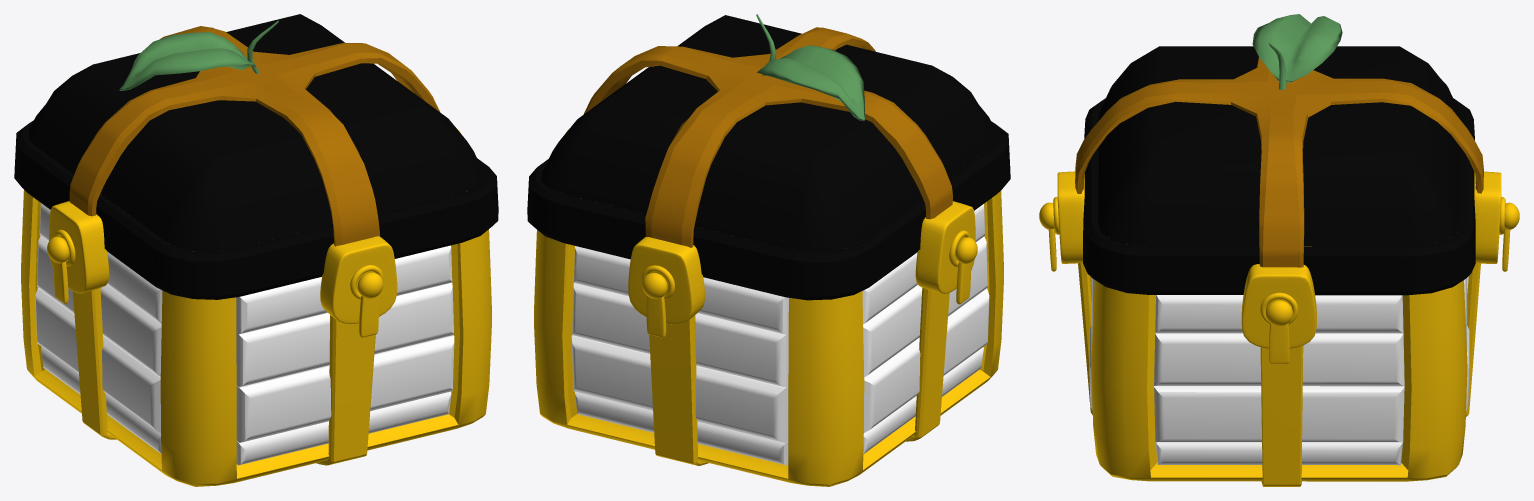
File: Mintschest_82523_compressed.glb
The picture shows the model from 3 angles, left to right: view 1: azimuth 30°, elevation 25°; view 2: azimuth 150°, elevation 25°; view 3: azimuth 270°, elevation 25°; orthographic projection.
Parts seen in each view (by area): view 1: mango_rig_GS:body, mango_rig_GS:lid, mango_rig_GS:straps_upper, mango_rig_GS:straps_lower, mango_rig_GS:lock_body.003, mango_rig_GS:LEAF, mango_rig_GS:lock_body, mango_rig_GS:lock_latch, mango_rig_GS:lock_latch.003; view 2: mango_rig_GS:lid, mango_rig_GS:body, mango_rig_GS:straps_upper, mango_rig_GS:straps_lower, mango_rig_GS:lock_body.001, mango_rig_GS:LEAF, mango_rig_GS:lock_body, mango_rig_GS:lock_latch.002, mango_rig_GS:lock_latch.003; view 3: mango_rig_GS:lid, mango_rig_GS:body, mango_rig_GS:straps_upper, mango_rig_GS:straps_lower, mango_rig_GS:lock_body.002, mango_rig_GS:LEAF, mango_rig_GS:lock_body.001, mango_rig_GS:lock_body.003, mango_rig_GS:lock_latch.001, mango_rig_GS:lock_latch, mango_rig_GS:lock_latch.002.
Part boxes in pixels (<box>): mango_rig_GS:body: <box>21,190,491,486</box>; mango_rig_GS:lid: <box>14,14,498,299</box>; mango_rig_GS:straps_upper: <box>69,26,439,246</box>; mango_rig_GS:straps_lower: <box>72,288,375,465</box>; mango_rig_GS:lock_body.003: <box>320,236,397,323</box>; mango_rig_GS:LEAF: <box>119,20,278,90</box>; mango_rig_GS:lock_body: <box>49,201,109,293</box>; mango_rig_GS:lock_latch: <box>357,272,383,337</box>; mango_rig_GS:lock_latch.003: <box>47,236,69,303</box>; mango_rig_GS:lid: <box>527,15,1010,300</box>; mango_rig_GS:body: <box>534,190,1003,486</box>; mango_rig_GS:straps_upper: <box>583,27,952,247</box>; mango_rig_GS:straps_lower: <box>649,287,949,465</box>; mango_rig_GS:lock_body.001: <box>628,237,704,324</box>; mango_rig_GS:LEAF: <box>756,14,864,121</box>; mango_rig_GS:lock_body: <box>915,201,975,293</box>; mango_rig_GS:lock_latch.002: <box>642,272,667,337</box>; mango_rig_GS:lock_latch.003: <box>955,237,977,304</box>; mango_rig_GS:lid: <box>1083,46,1475,295</box>; mango_rig_GS:body: <box>1089,246,1469,481</box>; mango_rig_GS:straps_upper: <box>1075,57,1483,267</box>; mango_rig_GS:straps_lower: <box>1078,262,1480,486</box>; mango_rig_GS:lock_body.002: <box>1241,264,1316,348</box>; mango_rig_GS:LEAF: <box>1252,14,1342,90</box>; mango_rig_GS:lock_body.001: <box>1474,171,1505,263</box>; mango_rig_GS:lock_body.003: <box>1053,171,1084,263</box>; mango_rig_GS:lock_latch.001: <box>1265,300,1292,363</box>; mango_rig_GS:lock_latch: <box>1039,202,1056,271</box>; mango_rig_GS:lock_latch.002: <box>1502,202,1519,271</box>.
Size of the model in its own units: 0.5605 by 0.4923 by 0.5605.
